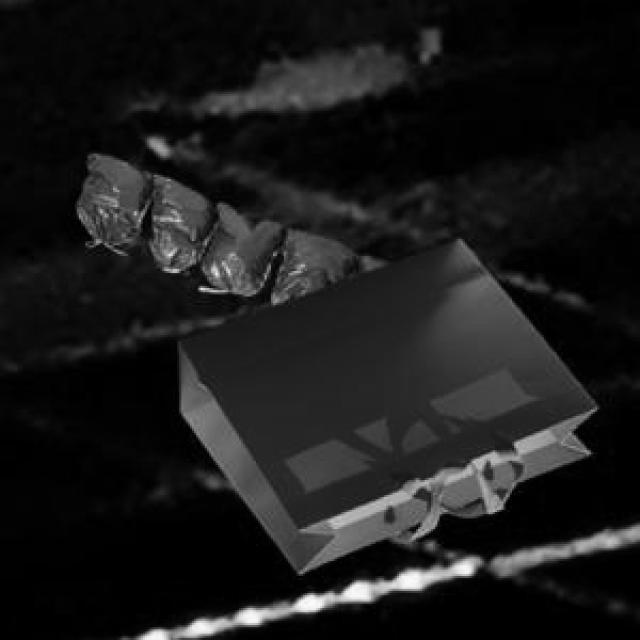miscellaneous trash: (73, 149, 388, 301)
paper: (175, 235, 593, 570)
